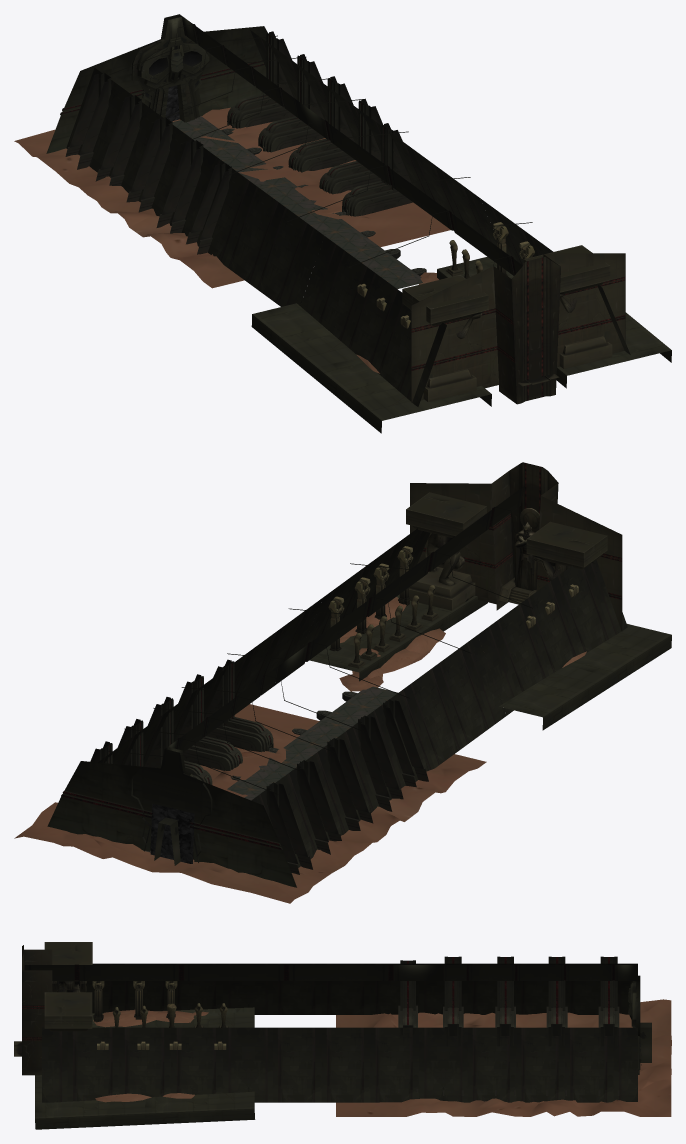
Rendered from env_mor_sith_temple_pre.glb.
The picture shows the model from 3 angles, top to bottom: view 1: azimuth 30°, elevation 25°; view 2: azimuth 150°, elevation 25°; view 3: azimuth 270°, elevation 25°; orthographic projection. The views are drawn at different scales.
Parts seen in each view (by area): view 1: mor_wall_06_mesh, mor_wall_02_mesh (1), mor_sithtemple_ground_01_mesh, mor_wall_02_mesh (2), mor_facepillar_cluster_02_mesh, mor_facepillar_cluster_02_mesh (1), mor_wall_02_mesh, mor_wall_01_mesh (1), mor_facearch_mesh (1), mor_ceiling_01_mesh (1), mor_wall_03_mesh (12), mor_wall_03_mesh (13) (+8 smaller); view 2: mor_wall_01_mesh (1), mor_wall_02_mesh (2), mor_sithtemple_ground_01_mesh, mor_wall_02_mesh (1), mor_wall_06_mesh, mor_facepillar_cluster_02_mesh (1), mor_wall_02_mesh, mor_ceiling_01_mesh (1), mor_statue_04_mesh, mor_facepillar_cluster_02_mesh, mor_floor_wide_02_mesh, mor_wall_03_mesh (12) (+11 smaller); view 3: mor_wall_02_mesh (1), mor_wall_02_mesh (2), mor_wall_02_mesh, mor_sithtemple_ground_01_mesh, mor_ceiling_01_mesh (1), mor_facepillar_cluster_02_mesh (1), mor_ceiling_01_mesh, mor_wall_03_mesh (8), mor_wall_06_mesh, mor_wall_03_mesh (9), mor_statue_04_mesh, mor_statue_04_mesh (1) (+9 smaller).
Boxes of the visible parts, bbox=[...] form: mor_wall_06_mesh: bbox=[411, 253, 625, 404]; mor_wall_02_mesh (1): bbox=[181, 114, 497, 306]; mor_sithtemple_ground_01_mesh: bbox=[14, 107, 450, 288]; mor_wall_02_mesh (2): bbox=[300, 198, 630, 406]; mor_facepillar_cluster_02_mesh: bbox=[227, 31, 382, 194]; mor_facepillar_cluster_02_mesh (1): bbox=[65, 72, 203, 233]; mor_wall_02_mesh: bbox=[66, 30, 381, 225]; mor_wall_01_mesh (1): bbox=[46, 14, 267, 153]; mor_facearch_mesh (1): bbox=[131, 17, 212, 122]; mor_ceiling_01_mesh (1): bbox=[224, 99, 532, 312]; mor_wall_03_mesh (12): bbox=[251, 303, 358, 379]; mor_wall_03_mesh (13): bbox=[316, 357, 436, 433]; mor_wall_01_mesh (1): bbox=[47, 749, 296, 887]; mor_wall_02_mesh (2): bbox=[302, 528, 627, 715]; mor_sithtemple_ground_01_mesh: bbox=[14, 704, 486, 903]; mor_wall_02_mesh (1): bbox=[204, 597, 506, 798]; mor_wall_06_mesh: bbox=[410, 462, 622, 631]; mor_facepillar_cluster_02_mesh (1): bbox=[266, 715, 403, 874]; mor_wall_02_mesh: bbox=[98, 681, 391, 867]; mor_ceiling_01_mesh (1): bbox=[227, 486, 594, 698]; mor_statue_04_mesh: bbox=[406, 492, 486, 610]; mor_facepillar_cluster_02_mesh: bbox=[90, 674, 242, 784]; mor_floor_wide_02_mesh: bbox=[259, 686, 397, 775]; mor_wall_03_mesh (12): bbox=[499, 666, 607, 730]; mor_wall_02_mesh (1): bbox=[248, 963, 443, 1102]; mor_wall_02_mesh (2): bbox=[42, 963, 248, 1102]; mor_wall_02_mesh: bbox=[443, 963, 637, 1102]; mor_sithtemple_ground_01_mesh: bbox=[336, 999, 671, 1116]; mor_ceiling_01_mesh (1): bbox=[24, 964, 443, 980]; mor_facepillar_cluster_02_mesh (1): bbox=[443, 956, 619, 1027]; mor_ceiling_01_mesh: bbox=[443, 964, 637, 980]; mor_wall_03_mesh (8): bbox=[144, 1091, 255, 1124]; mor_wall_06_mesh: bbox=[22, 945, 52, 1075]; mor_wall_03_mesh (9): bbox=[35, 1096, 145, 1129]; mor_statue_04_mesh: bbox=[44, 992, 92, 1031]; mor_statue_04_mesh (1): bbox=[44, 942, 92, 992].
Size of the model in its own units: 41.15 by 19.51 by 95.63.
Materials: 14 (14 with a texture image).
